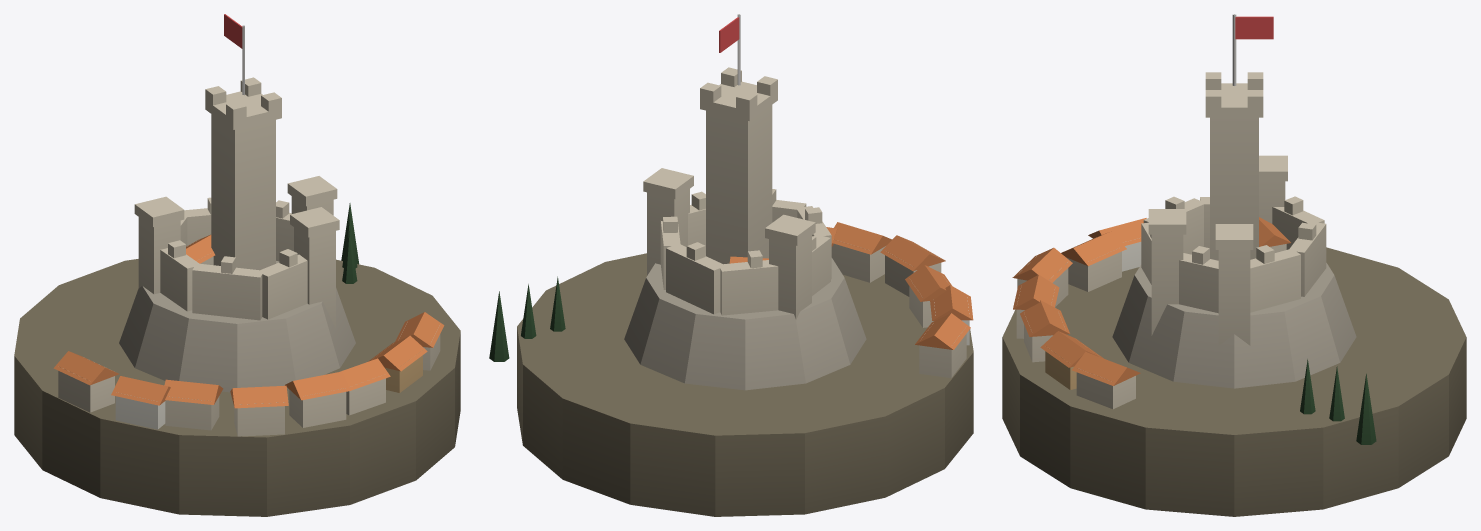
The model's file is castle_med_b.glb.
The picture shows the model from 3 angles, left to right: view 1: azimuth 30°, elevation 25°; view 2: azimuth 150°, elevation 25°; view 3: azimuth 270°, elevation 25°; orthographic projection. The views are drawn at different scales.
Visible parts, largest first — view 1: castle_med_b; view 2: castle_med_b; view 3: castle_med_b.
Boxes of the visible parts, x1,y1,x2,y2 form: castle_med_b: (14, 14, 460, 516); castle_med_b: (489, 14, 973, 516); castle_med_b: (1002, 14, 1466, 516).
Size of the model in its own units: 1.9 by 1.84 by 1.9.
